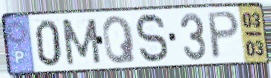0: (34, 18, 64, 69)
3: (179, 11, 207, 62)
M: (59, 17, 103, 67)
P: (206, 9, 242, 62)
Q: (101, 14, 139, 66)
S: (134, 12, 171, 66)
